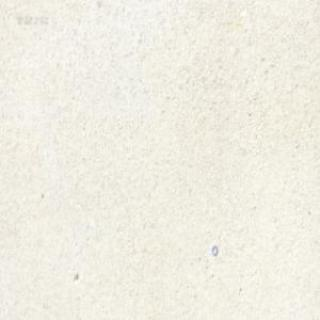Washertrack_idkeyframe: (210, 243, 217, 255)
